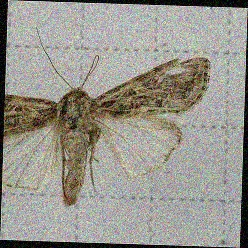Spodoptera litura: (4, 29, 210, 208)
